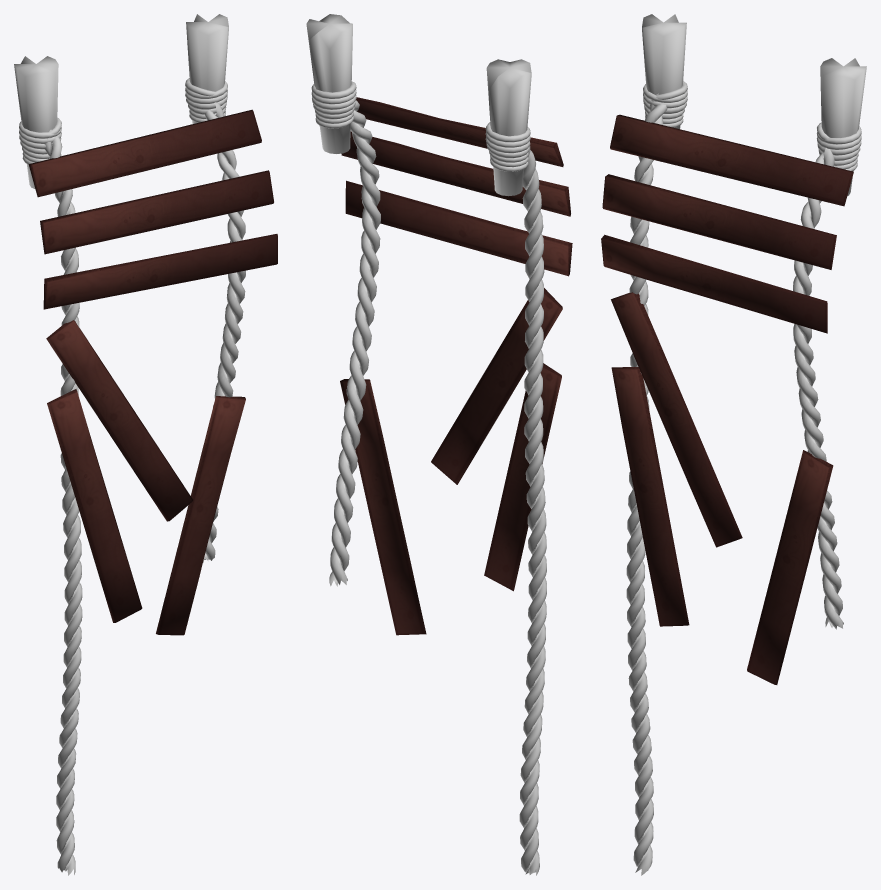
File: broken_bridge (1).fbx
The picture shows the model from 3 angles, left to right: view 1: azimuth 30°, elevation 25°; view 2: azimuth 150°, elevation 25°; view 3: azimuth 330°, elevation 25°; orthographic projection. The views are drawn at different scales.
Parts seen in each view (by area): view 1: Circle.002; view 2: Circle.002; view 3: Circle.002.
Part boxes in pixels (x1,y1,x2,y2): Circle.002: [14, 14, 277, 875]; Circle.002: [306, 14, 572, 875]; Circle.002: [601, 14, 866, 875].
Bounding box in the file's own units: 1236 × 4178 × 519.
